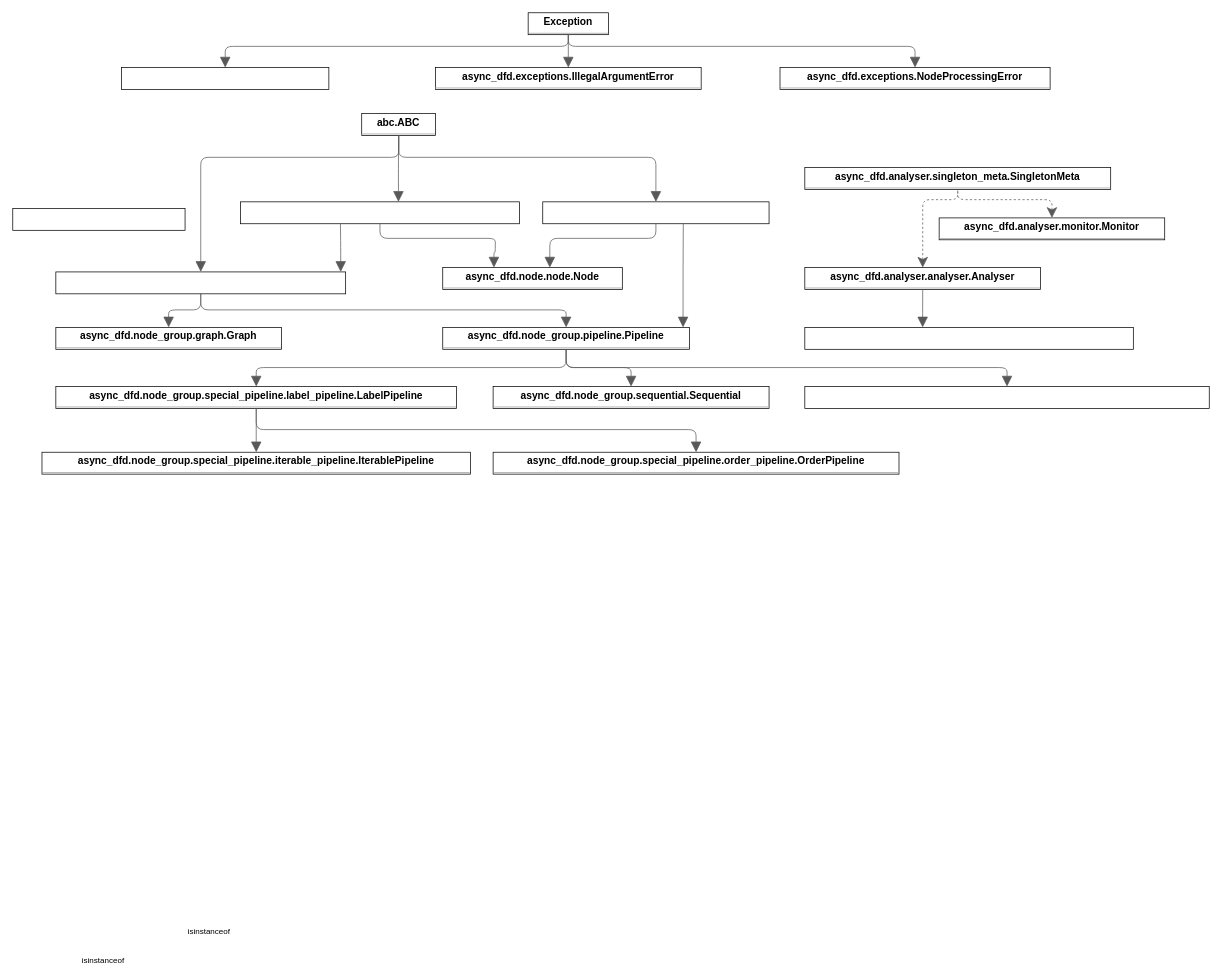
Some shapes in this 1222 by 978 pixel diagram are drawn without their labels. Each missing label, with the centre of its shape:
"async_dfd.analyser.pipeline_analyser.PipelineAnalyser" belongs at point (968, 338).
"async_dfd.exceptions.NodeStop" belongs at point (225, 78).
"async_dfd.label.LabelData" belongs at point (98, 219).
"async_dfd.node.abstract_node.AbstractNode" belongs at point (379, 212).
"async_dfd.node.node_link.NodeLink" belongs at point (655, 212).
"async_dfd.node_group.node_group.NodeGroup" belongs at point (200, 282).
"async_dfd.node_group.special_pipeline.cycle_pipeline.CyclePipeline" belongs at point (1006, 397).
